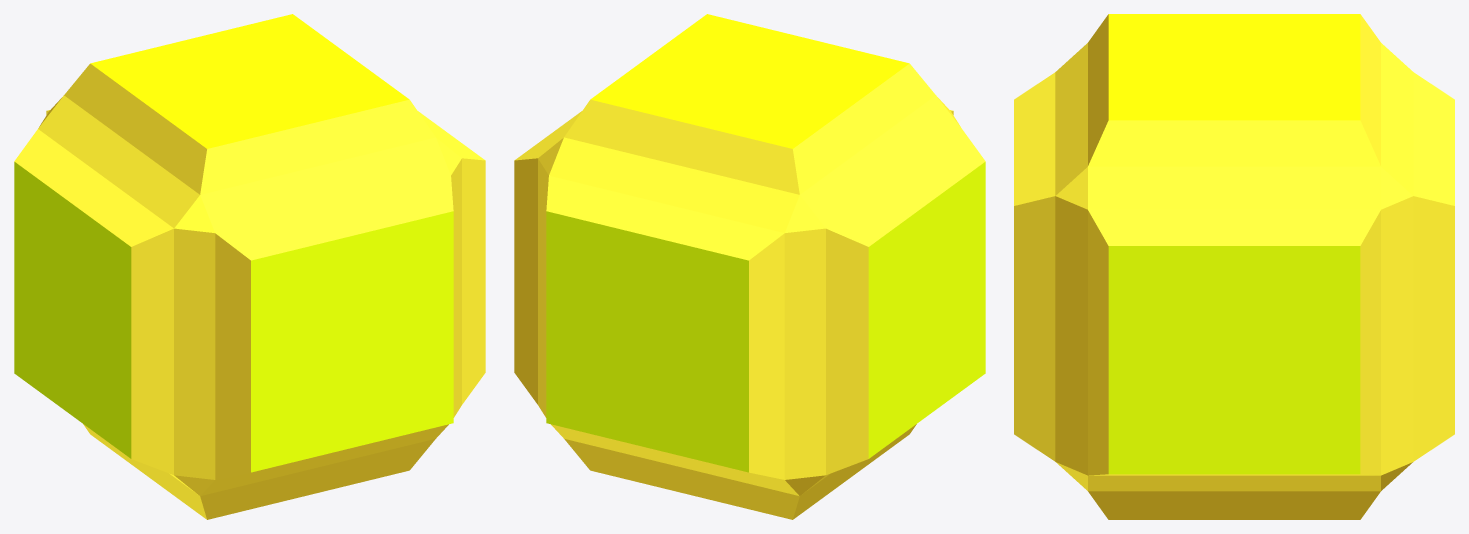
File: PowerPellet.fbx
The picture shows the model from 3 angles, left to right: view 1: azimuth 30°, elevation 25°; view 2: azimuth 150°, elevation 25°; view 3: azimuth 270°, elevation 25°; orthographic projection. The views are drawn at different scales.
Parts seen in each view (by area): view 1: PowerPellet; view 2: PowerPellet; view 3: PowerPellet.
Part boxes in pixels (x1,y1,x2,y2): PowerPellet: [14, 14, 485, 519]; PowerPellet: [514, 14, 985, 519]; PowerPellet: [1014, 14, 1454, 519].
Size of the model in its own units: 73.83 by 73.83 by 73.83.
